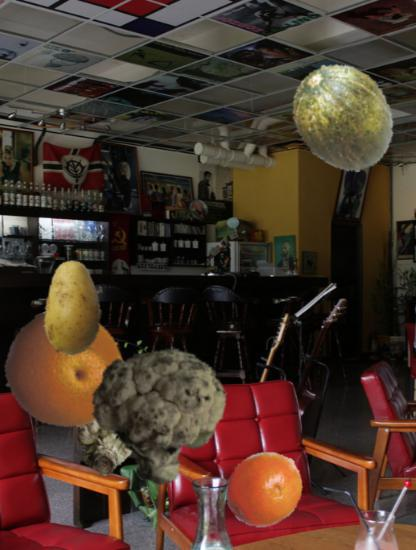Cauliflower: (94, 341, 233, 480), (73, 408, 138, 473)
Grapefruit: (4, 309, 124, 429)
Melon: (284, 62, 397, 175)
Potato: (25, 260, 122, 357)
Tangelo: (224, 448, 305, 529)
